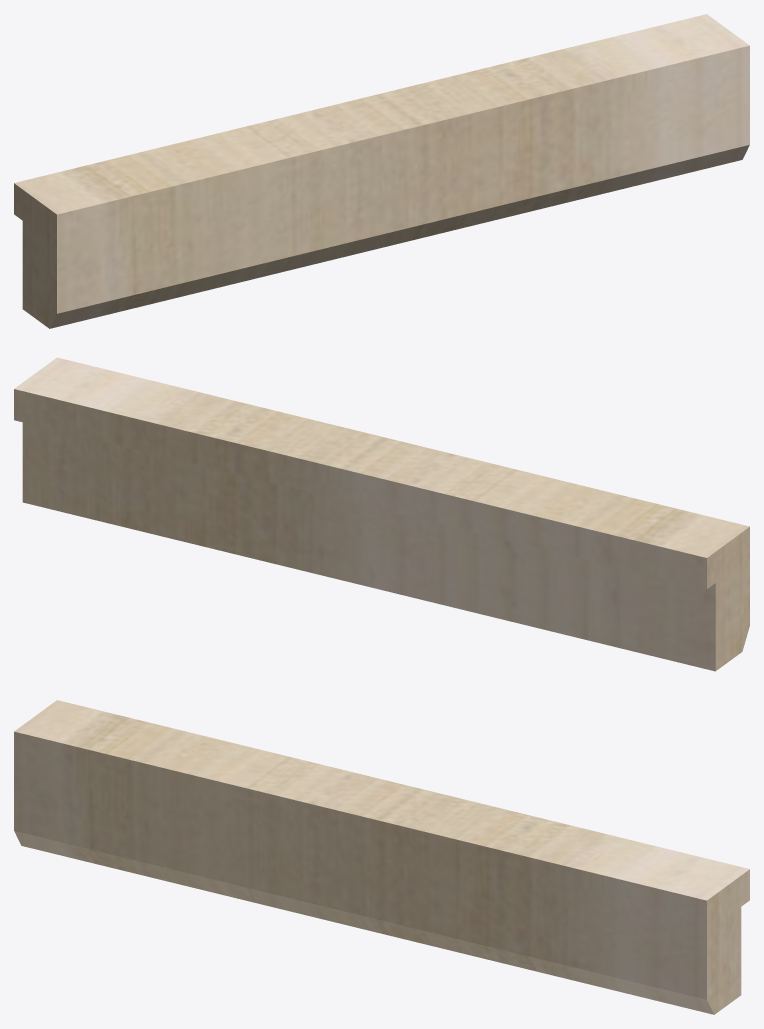
Rendered from original-27.obj.
3 renders of one model, top to bottom at view 1: azimuth 30°, elevation 25°; view 2: azimuth 150°, elevation 25°; view 3: azimuth 330°, elevation 25°, orthographic.
Parts seen in each view (by area): view 1: Group_19/mesh129/mesh129-geometry#mesh129-geometry; view 2: Group_19/mesh129/mesh129-geometry#mesh129-geometry; view 3: Group_19/mesh129/mesh129-geometry#mesh129-geometry.
Boxes of the visible parts, <box> form: Group_19/mesh129/mesh129-geometry#mesh129-geometry: <box>14,14,749,328</box>; Group_19/mesh129/mesh129-geometry#mesh129-geometry: <box>14,357,749,671</box>; Group_19/mesh129/mesh129-geometry#mesh129-geometry: <box>14,700,749,1014</box>.
Size of the model in its own units: 1.64 by 0.271 by 0.1767.
